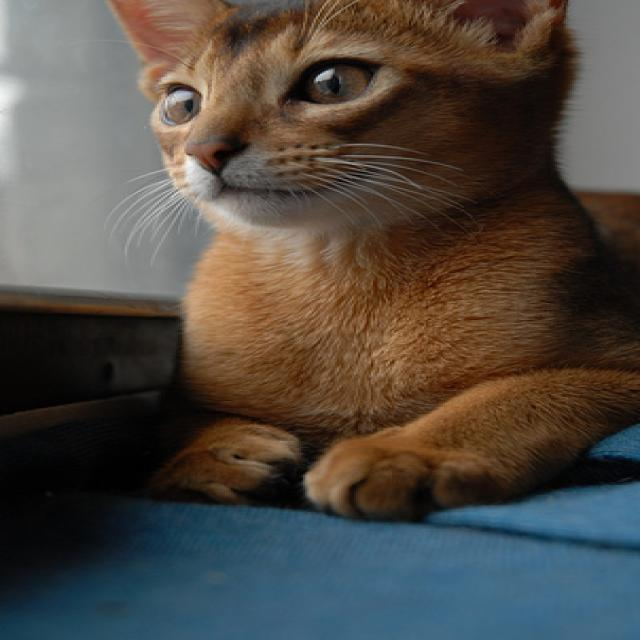Abyssinian: (82, 0, 640, 523)
